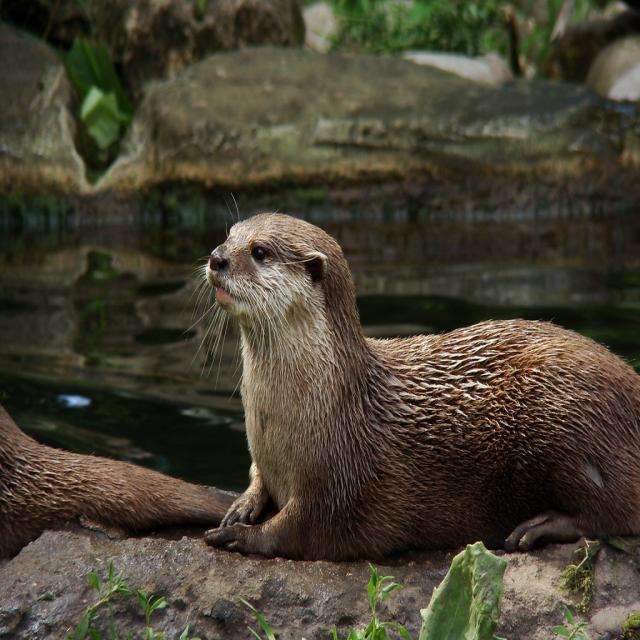otter: (209, 212, 640, 556)
